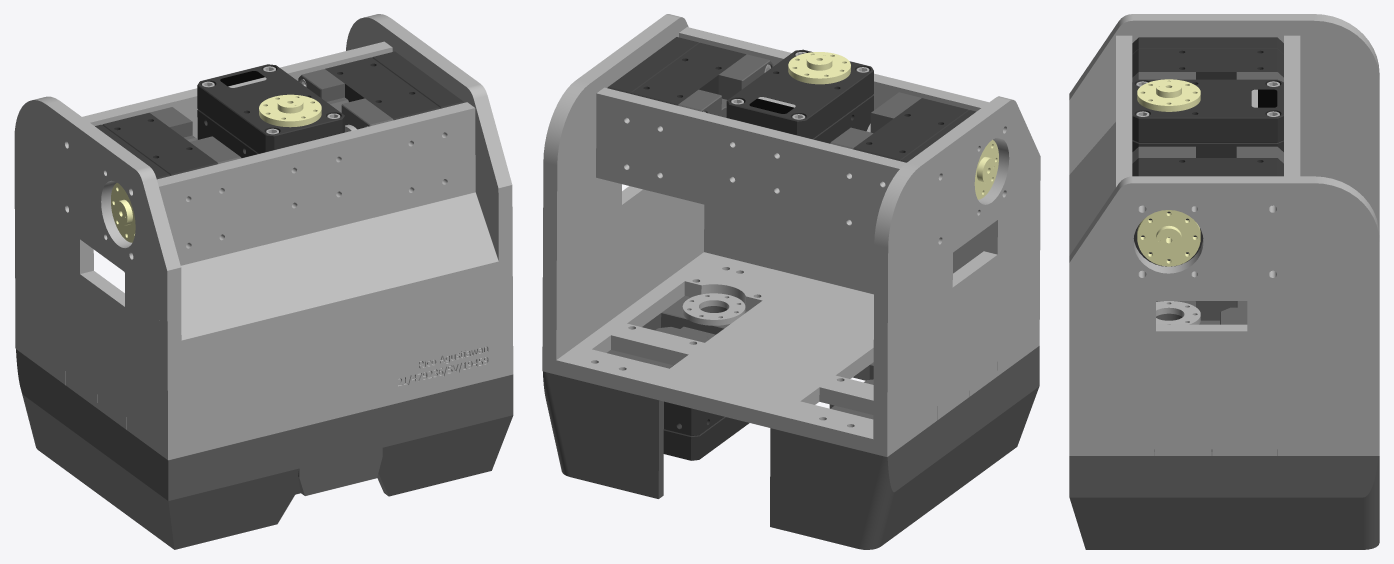
Rendered from Body.obj.
3 views of the same model, side by side, from view 1: azimuth 30°, elevation 25°; view 2: azimuth 150°, elevation 25°; view 3: azimuth 270°, elevation 25° (orthographic).
Visible parts, largest first — view 1: Solid1:66, Solid1:69, Solid1:68, Solid1:86, Solid1:67, Solid1:36, Solid1:49, Solid1:32, Solid1:31, Solid1:15, Solid1:21, Solid1:33 (+4 smaller); view 2: Solid1:68, Solid1:49, Solid1:69, Solid1:32, Solid1:67, Solid1:66, Solid1:36, Solid1:86, Solid1:31, Solid1:15, Solid1:21, Solid1:53 (+8 smaller); view 3: Solid1:67, Solid1:69, Solid1:68, Solid1:36, Solid1:66, Solid1:86, Solid1:32, Solid1:15, Solid1:49, Solid1:16, Solid1:31, Solid1:3 (+6 smaller).
Part boxes in pixels (x1,y1,x2,y2): Solid1:66: (136,192,513,453); Solid1:69: (16,349,513,549); Solid1:68: (14,96,181,445); Solid1:86: (136,102,475,274); Solid1:67: (346,14,513,358); Solid1:36: (197,64,344,153); Solid1:49: (15,334,513,460); Solid1:32: (53,41,392,213); Solid1:31: (325,57,440,120); Solid1:15: (102,112,217,175); Solid1:21: (298,69,393,129); Solid1:33: (259,94,321,127); Solid1:68: (873,96,1040,442); Solid1:49: (542,252,1039,456); Solid1:69: (543,313,1039,549); Solid1:32: (596,87,935,259); Solid1:67: (542,14,704,359); Solid1:66: (704,194,1040,334); Solid1:36: (726,49,873,138); Solid1:86: (679,27,1017,198); Solid1:31: (631,42,746,105); Solid1:15: (853,98,968,161); Solid1:21: (678,54,773,117); Solid1:53: (663,417,749,460); Solid1:67: (1069,176,1379,455); Solid1:69: (1069,301,1379,549); Solid1:68: (1069,14,1379,234); Solid1:36: (1132,79,1283,142); Solid1:66: (1069,122,1131,441); Solid1:86: (1116,35,1132,283); Solid1:32: (1284,35,1300,283); Solid1:15: (1132,49,1283,79); Solid1:49: (1069,296,1379,455); Solid1:16: (1137,210,1200,266); Solid1:31: (1132,158,1283,176); Solid1:3: (1132,37,1283,54).
Size of the model in its own units: 0.1245 by 0.1342 by 0.095.
